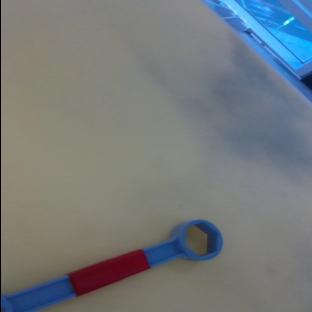part_3_good: (0, 213, 226, 312)
